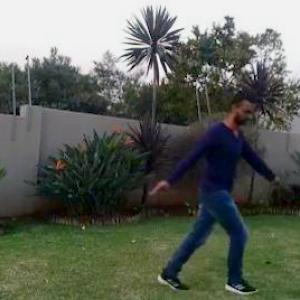land: (141, 80, 280, 299)
